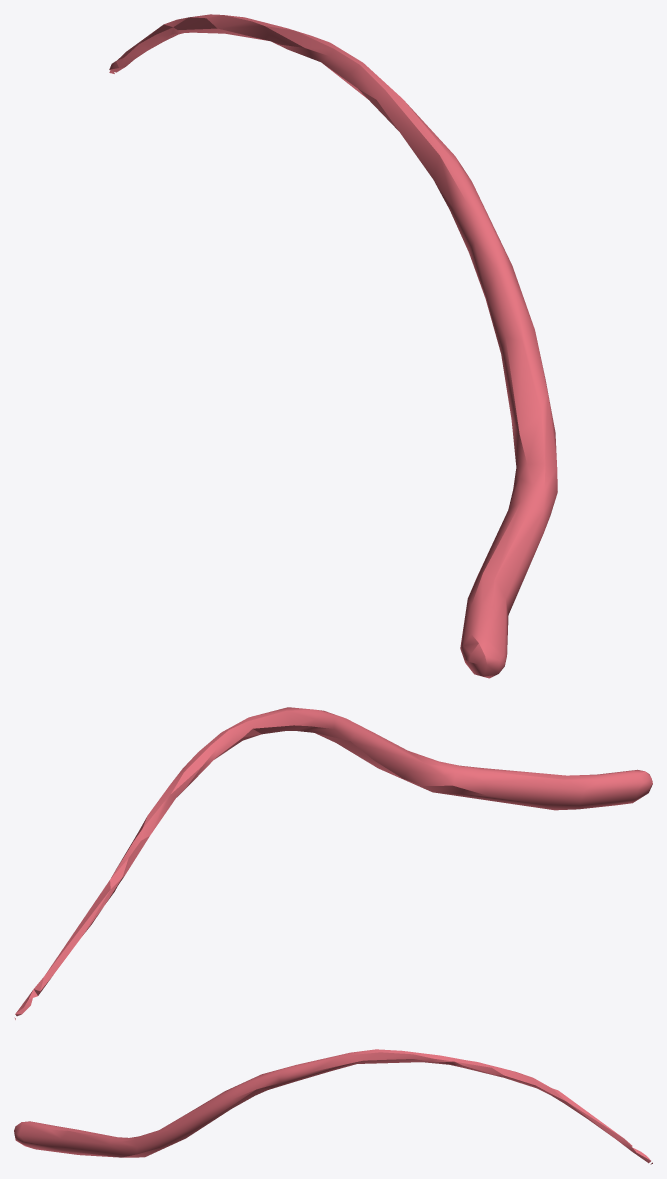
Rendered from fma86079_fj5124.glb.
The picture shows the model from 3 angles, top to bottom: view 1: azimuth 30°, elevation 25°; view 2: azimuth 150°, elevation 25°; view 3: azimuth 270°, elevation 25°; orthographic projection. The views are drawn at different scales.
Parts seen in each view (by area): view 1: FMA86079_FJ5124; view 2: FMA86079_FJ5124; view 3: FMA86079_FJ5124.
Boxes of the visible parts, x1,y1,x2,y2 form: FMA86079_FJ5124: (109, 14, 557, 678); FMA86079_FJ5124: (14, 707, 652, 1019); FMA86079_FJ5124: (14, 1049, 652, 1164).
Bounding box in the file's own units: 0.0116 × 0.0121 × 0.0464.
